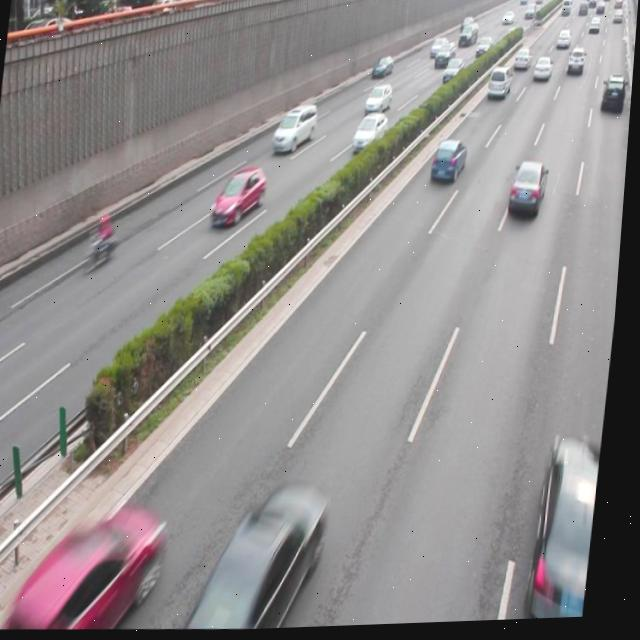car: (210, 480, 337, 633), (38, 505, 171, 634), (536, 438, 609, 612), (212, 166, 268, 228), (273, 103, 320, 157), (508, 162, 549, 220), (431, 140, 470, 189), (352, 112, 389, 155), (599, 77, 627, 118), (365, 84, 394, 118)
truck: (486, 68, 513, 102)
